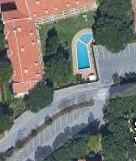pool: (78, 35, 89, 70)
